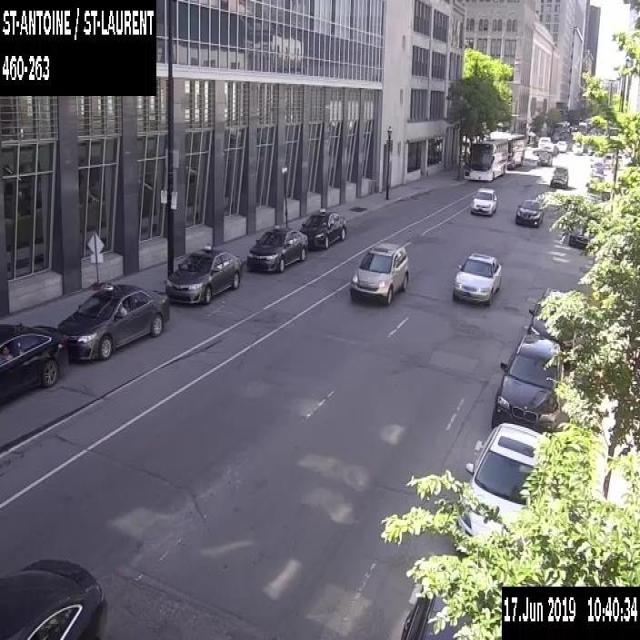bus: (464, 138, 508, 180), (494, 132, 525, 169)
construction: (85, 229, 104, 287)
vehicle: (456, 421, 549, 547), (0, 553, 106, 638), (57, 282, 170, 358), (490, 332, 564, 436), (0, 321, 67, 402), (164, 242, 242, 305), (349, 241, 408, 305), (526, 287, 572, 367), (245, 224, 308, 272), (400, 596, 465, 639), (452, 251, 502, 305), (298, 207, 346, 248), (514, 196, 544, 227), (470, 187, 500, 216), (568, 223, 593, 249), (585, 186, 610, 203), (550, 165, 567, 187), (536, 151, 552, 165), (590, 160, 603, 175), (602, 152, 614, 168), (537, 135, 550, 149), (543, 143, 558, 153), (556, 140, 567, 151), (590, 173, 604, 181), (573, 142, 582, 154), (587, 144, 595, 154)
